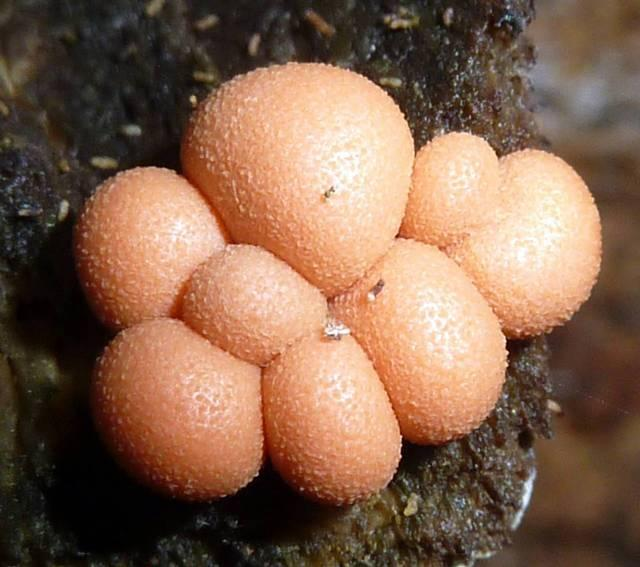Non-edible Mushroom: (72, 59, 603, 507), (179, 60, 416, 295), (333, 237, 510, 445), (89, 316, 265, 501), (450, 146, 604, 338), (261, 322, 403, 506), (72, 164, 228, 328), (179, 241, 330, 366), (398, 129, 500, 247)
